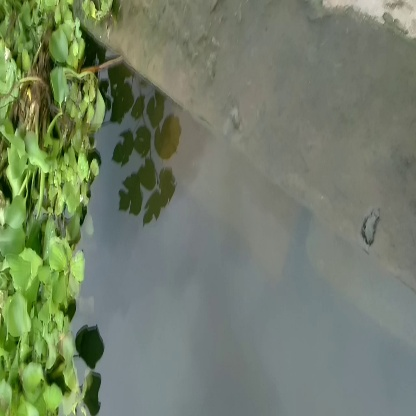grass: (3, 137, 85, 405)
